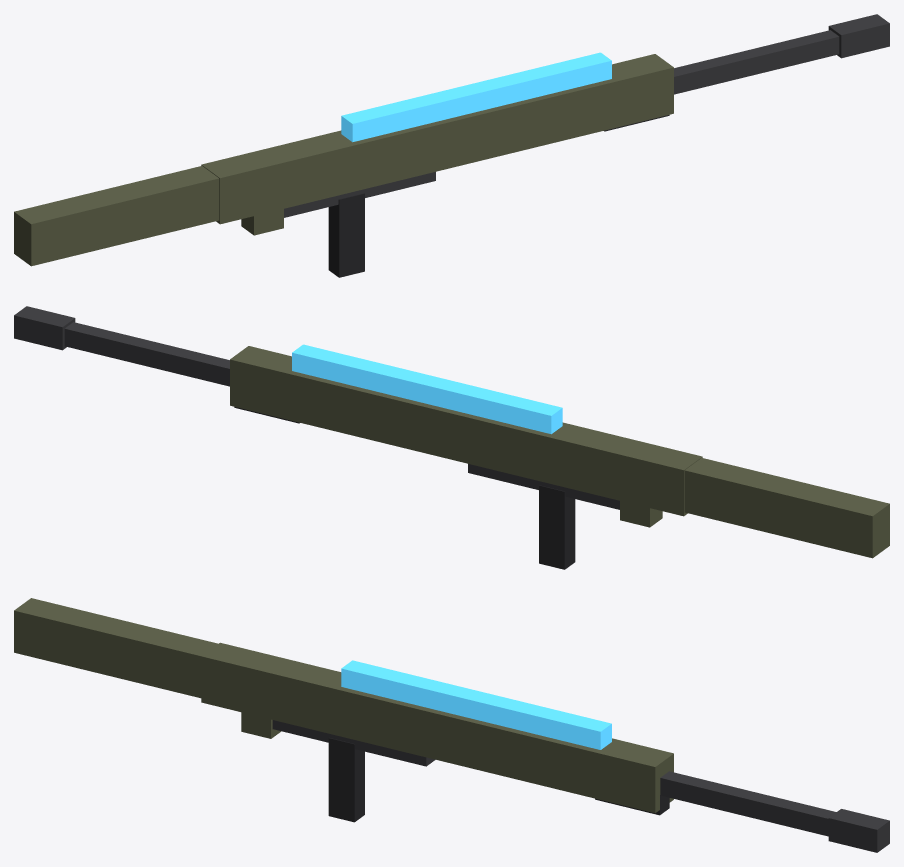
File: SM_Wpn_Sniper.fbx
3 renders of one model, top to bottom at view 1: azimuth 30°, elevation 25°; view 2: azimuth 150°, elevation 25°; view 3: azimuth 330°, elevation 25°, orthographic.
Visible parts, largest first — view 1: SM_Wpn_Sniper; view 2: SM_Wpn_Sniper; view 3: SM_Wpn_Sniper.
Part boxes in pixels (x1,y1,x2,y2): SM_Wpn_Sniper: (14,14,889,277); SM_Wpn_Sniper: (14,306,889,569); SM_Wpn_Sniper: (14,598,889,852).
Size of the model in its own units: 133 by 5 by 22.25.
